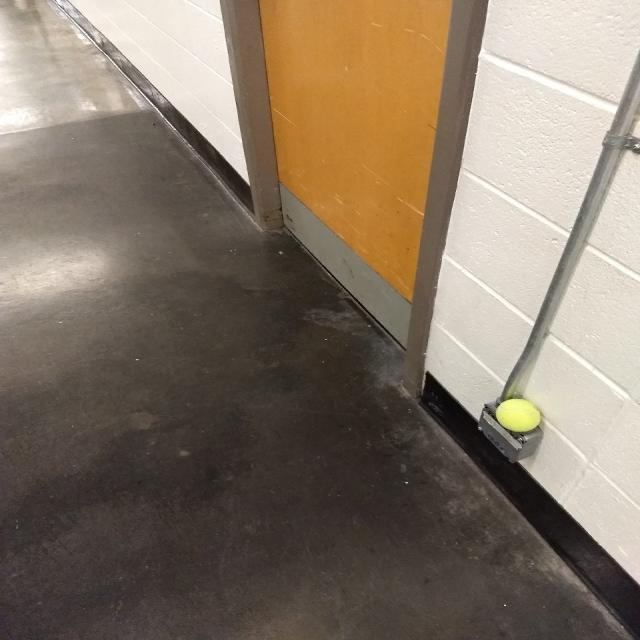Tennis-Ball: (490, 395, 546, 436)
